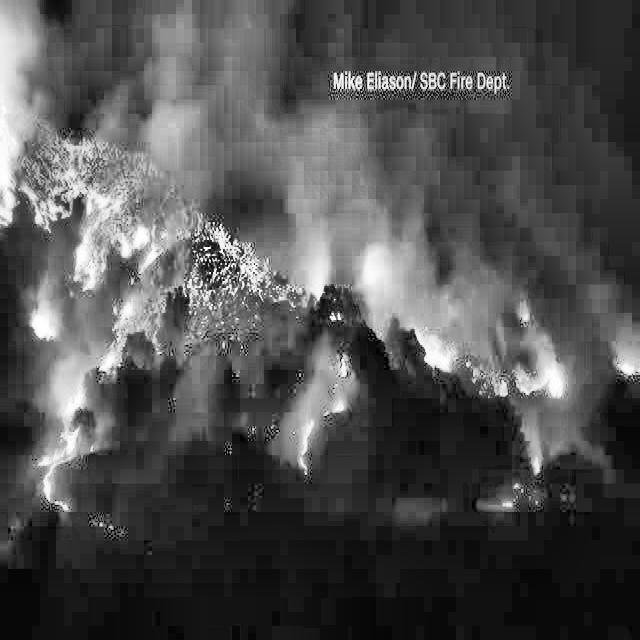fire: (0, 80, 243, 565), (471, 336, 577, 454), (410, 282, 451, 479), (308, 338, 367, 466), (290, 394, 332, 521), (488, 475, 556, 546), (597, 351, 640, 412)
